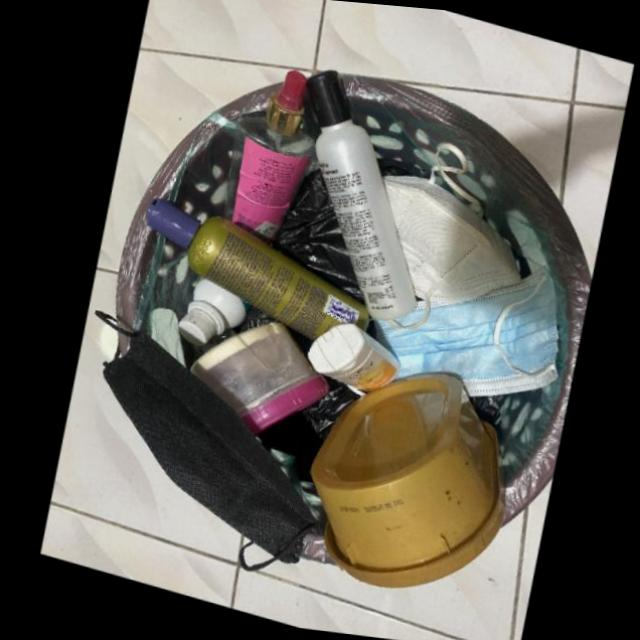chai_nhua: (142, 201, 366, 342), (305, 71, 414, 322), (221, 72, 313, 240), (303, 324, 396, 394), (173, 278, 246, 349)
hop_nhua: (304, 371, 499, 588), (185, 323, 325, 437)
khau_trang: (90, 314, 318, 573), (380, 142, 517, 331), (371, 269, 554, 397)
